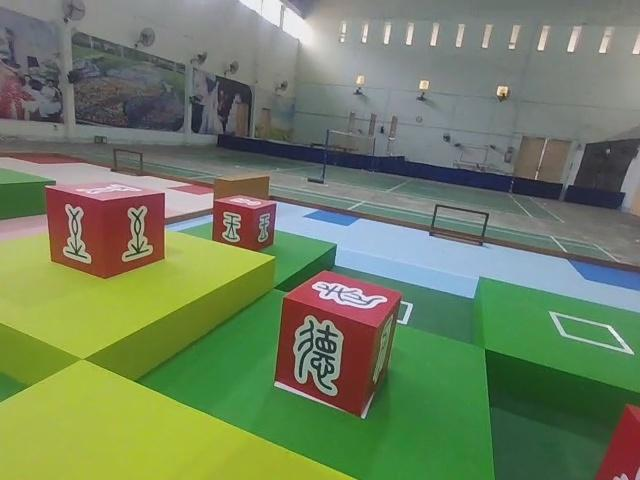R2 Fake: (273, 266, 404, 421)
R2 Real: (43, 179, 169, 282), (211, 194, 279, 252)
